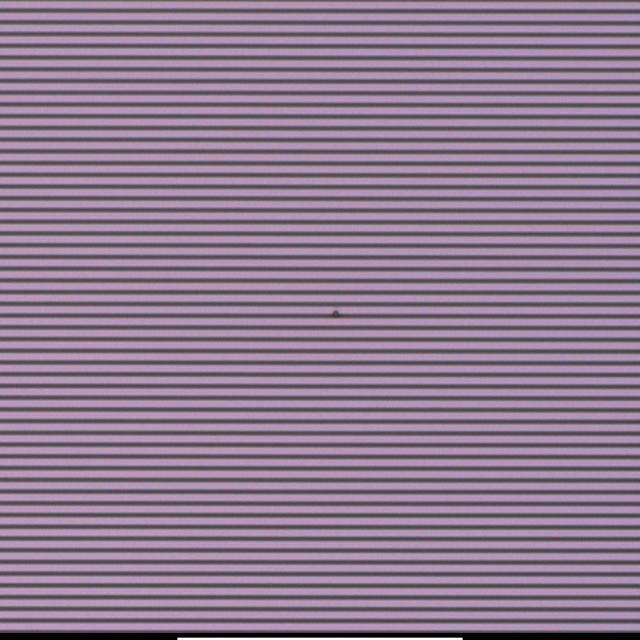03_intrusion: (331, 308, 342, 322)
